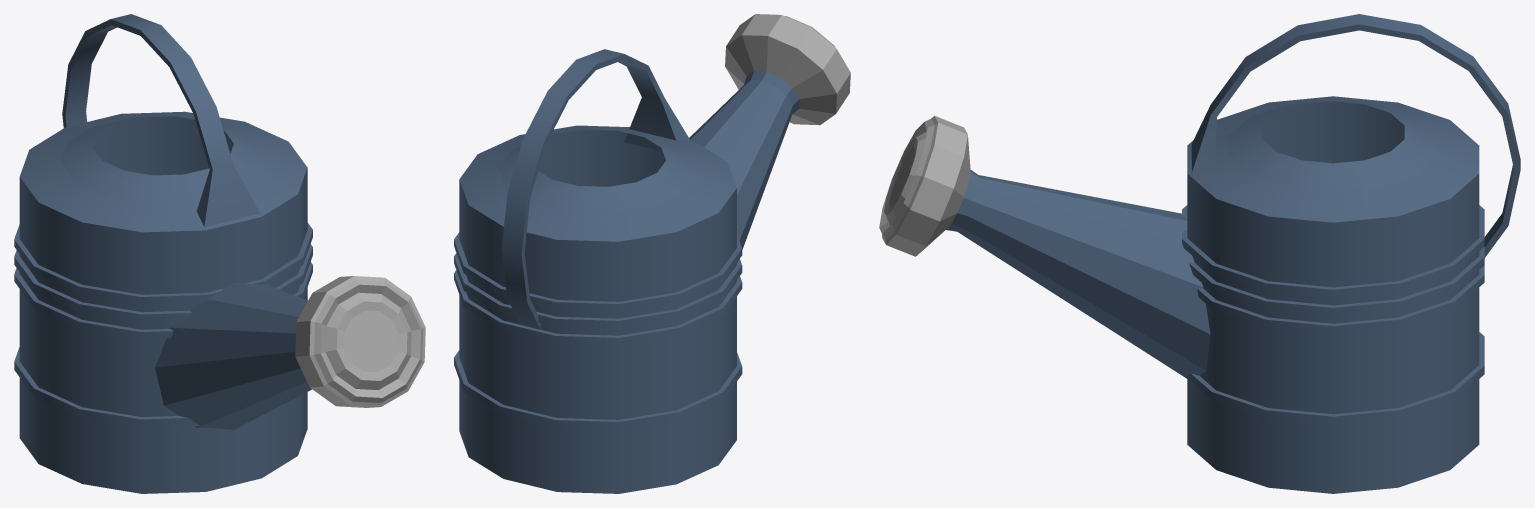
File: watering_can.fbx
The picture shows the model from 3 angles, left to right: view 1: azimuth 30°, elevation 25°; view 2: azimuth 150°, elevation 25°; view 3: azimuth 270°, elevation 25°; orthographic projection. The views are drawn at different scales.
Parts seen in each view (by area): view 1: pCylinder5; view 2: pCylinder5; view 3: pCylinder5.
Boxes of the visible parts, x1=… form: pCylinder5: x1=14, y1=14, x2=425, y2=493; pCylinder5: x1=454, y1=14, x2=850, y2=493; pCylinder5: x1=879, y1=14, x2=1520, y2=493.
Size of the model in its own units: 2.08 by 3.03 by 4.29.
